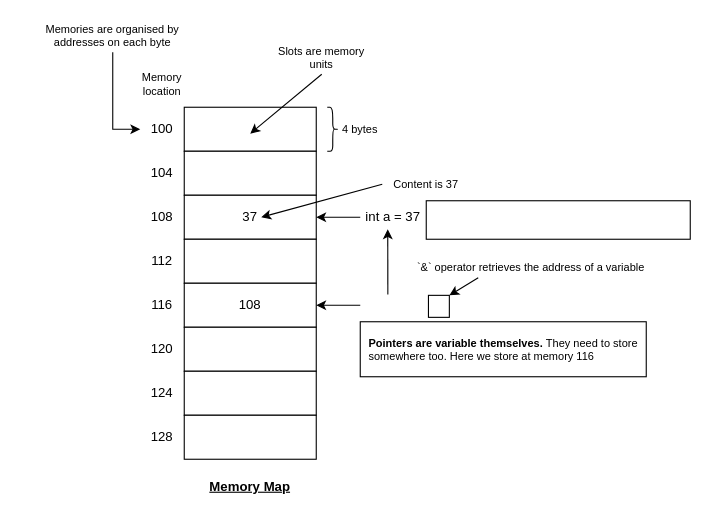
This 710x521 diagram has some shape labels left out. Each missing label, with the centre of its shape:
Address of a is 108. Reserved for 4 bytes for `a` because it is an integer type.: the point at 557,219
int *ptr_a = &a // 108: the point at 438,305
